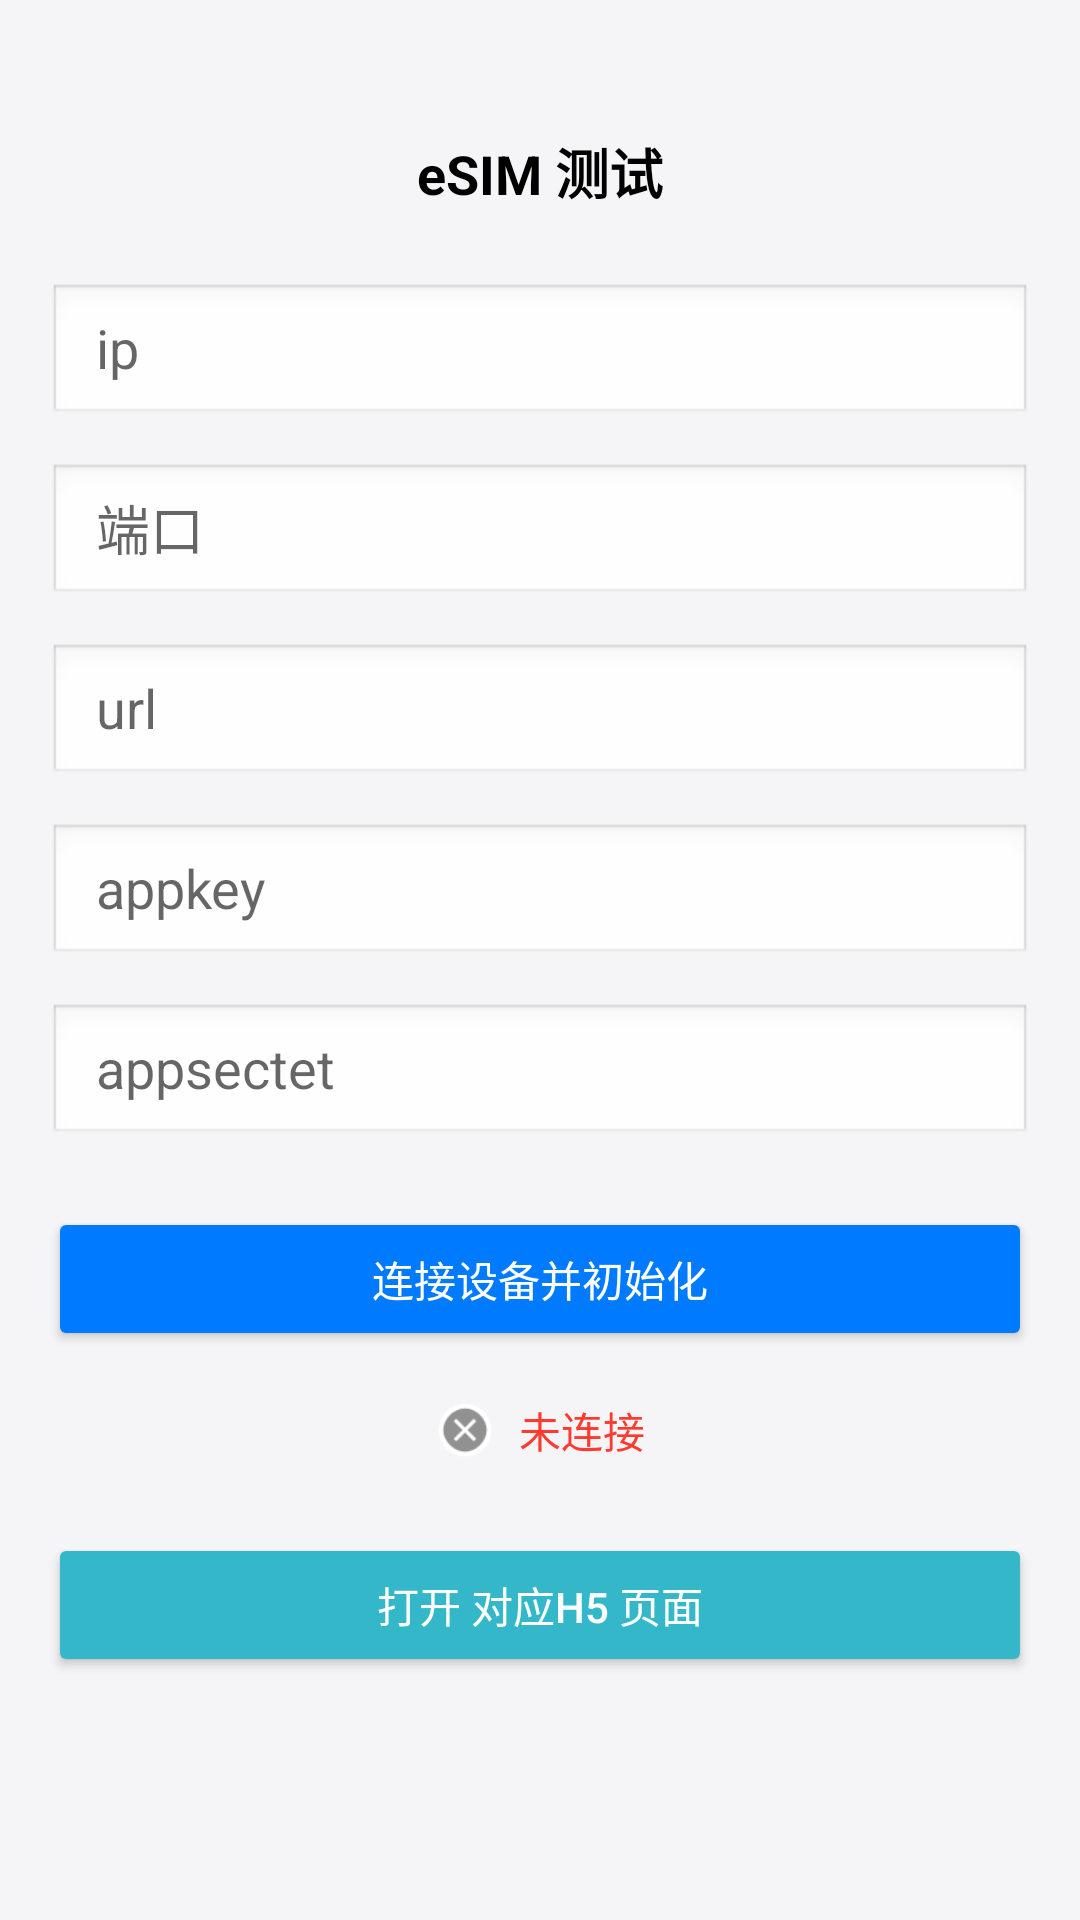

Icons on this 1080w x 1920h Android screen, each with the point to tap as [x,y]:
presence offline: [465,1430]
